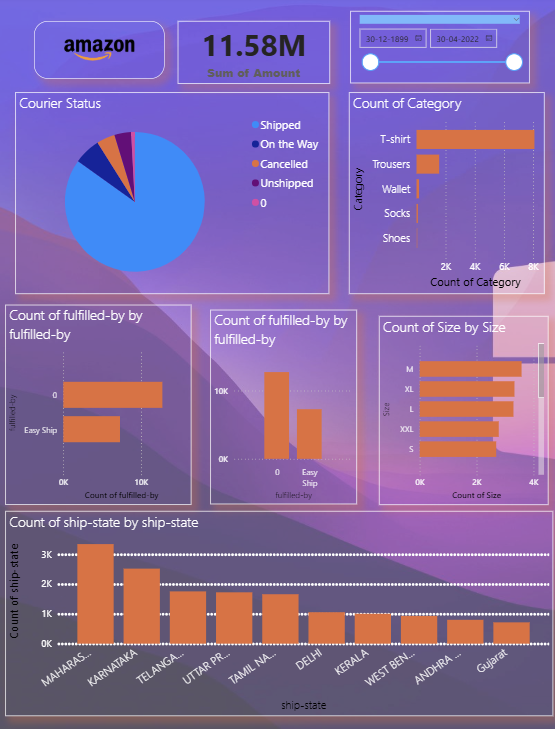

The dashboard page shown, as its layout file describes it:
{"tool":"powerbi","page":{"name":"amazon sales report","canvas":[816,1056],"ordinal":0},"visuals":[{"type":"card","fields":{"Values":["Sum(Amazon Sale Report (2).Amount)"]},"box":[264,36,219,90],"z":0},{"type":"slicer","fields":{"Values":["Amazon Sale Report (2).Date"]},"box":[512,22,258,104],"z":1000},{"type":"barChart","title":"Count of Category ","fields":{"Category":["Amazon Sale Report (2).Category"],"Y":["CountNonNull(Amazon Sale Report (2).Category)"]},"box":[511.4,138,281.3,290],"z":2000},{"type":"pieChart","title":" Courier Status ","fields":{"Category":["Amazon Sale Report (2).Courier Status"],"Y":["CountNonNull(Amazon Sale Report (2).Courier Status)"]},"box":[31,138,452,290],"z":3000},{"type":"barChart","fields":{"Category":["Amazon Sale Report (2).fulfilled-by"],"Y":["CountNonNull(Amazon Sale Report (2).fulfilled-by)"]},"box":[16.2,444.5,268.1,287.9],"z":4000},{"type":"columnChart","fields":{"Category":["Amazon Sale Report (2).fulfilled-by"],"Y":["CountNonNull(Amazon Sale Report (2).fulfilled-by)"]},"box":[311,452,211,280],"z":5000},{"type":"clusteredBarChart","fields":{"Category":["Amazon Sale Report (2).Size"],"Y":["CountNonNull(Amazon Sale Report (2).Size)"]},"box":[555,460,244,272],"z":6000},{"type":"clusteredColumnChart","fields":{"Category":["Amazon Sale Report (2).ship-state"],"Y":["CountNonNull(Amazon Sale Report (2).ship-state)"]},"box":[17,742,789,295],"z":7000},{"type":"image","box":[57,36,188,83],"z":8000}]}

Visuals, with their boxes in screenshot pixels (x1, y1, x2, y2), scaled from the page's 816x1056 canvas onto the 555x736 screenshot:
card - Sum(Amazon Sale Report (2).Amount): region(180, 25, 329, 88)
slicer - Amazon Sale Report (2).Date: region(348, 15, 524, 88)
"Count of Category " barChart: region(348, 96, 539, 298)
" Courier Status " pieChart: region(21, 96, 329, 298)
barChart - Amazon Sale Report (2).fulfilled-by x CountNonNull(Amazon Sale Report (2).fulfilled-by): region(11, 310, 193, 510)
columnChart - Amazon Sale Report (2).fulfilled-by x CountNonNull(Amazon Sale Report (2).fulfilled-by): region(212, 315, 355, 510)
clusteredBarChart - Amazon Sale Report (2).Size x CountNonNull(Amazon Sale Report (2).Size): region(377, 321, 543, 510)
clusteredColumnChart - Amazon Sale Report (2).ship-state x CountNonNull(Amazon Sale Report (2).ship-state): region(12, 517, 548, 723)
image: region(39, 25, 167, 83)
